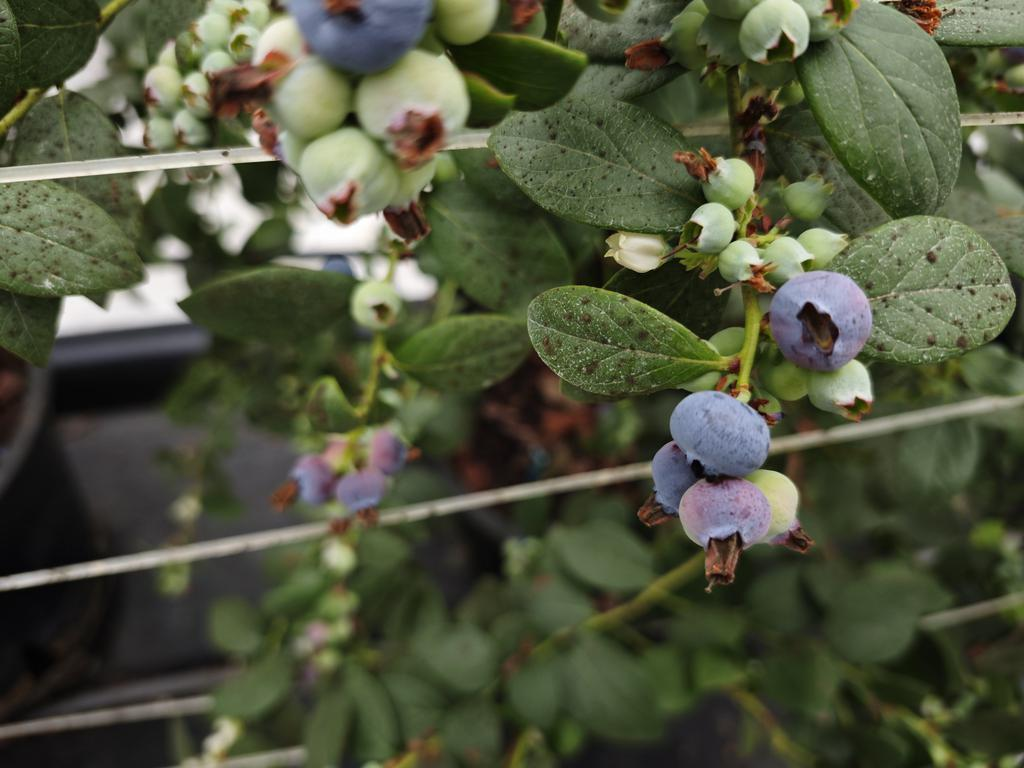RipeBlueBerry: (764, 268, 876, 376), (669, 388, 772, 480)
Semi-RipeBlueBerry: (675, 477, 775, 557)
UnripeBlueBerry: (298, 128, 401, 225)
